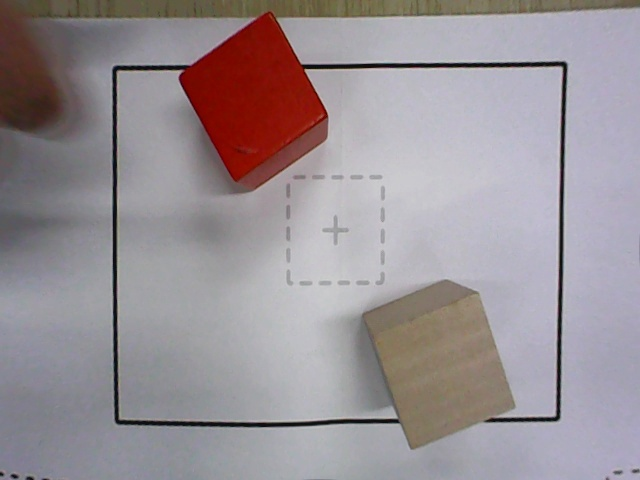upside of big cube: (177, 11, 327, 182), (374, 291, 514, 450)
